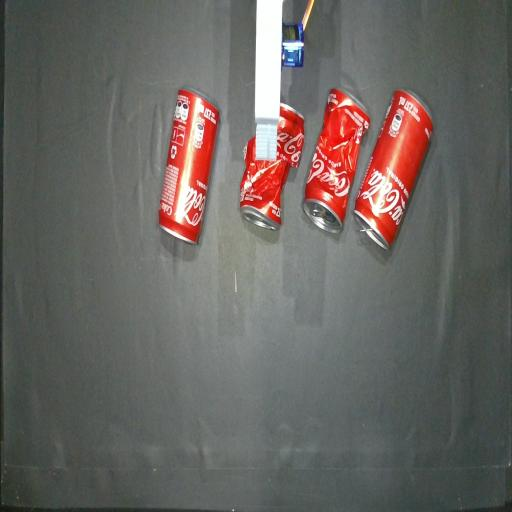lata: (354, 90, 433, 248), (158, 87, 221, 244)
lata_defectuoso: (303, 89, 370, 232), (240, 104, 304, 228)
